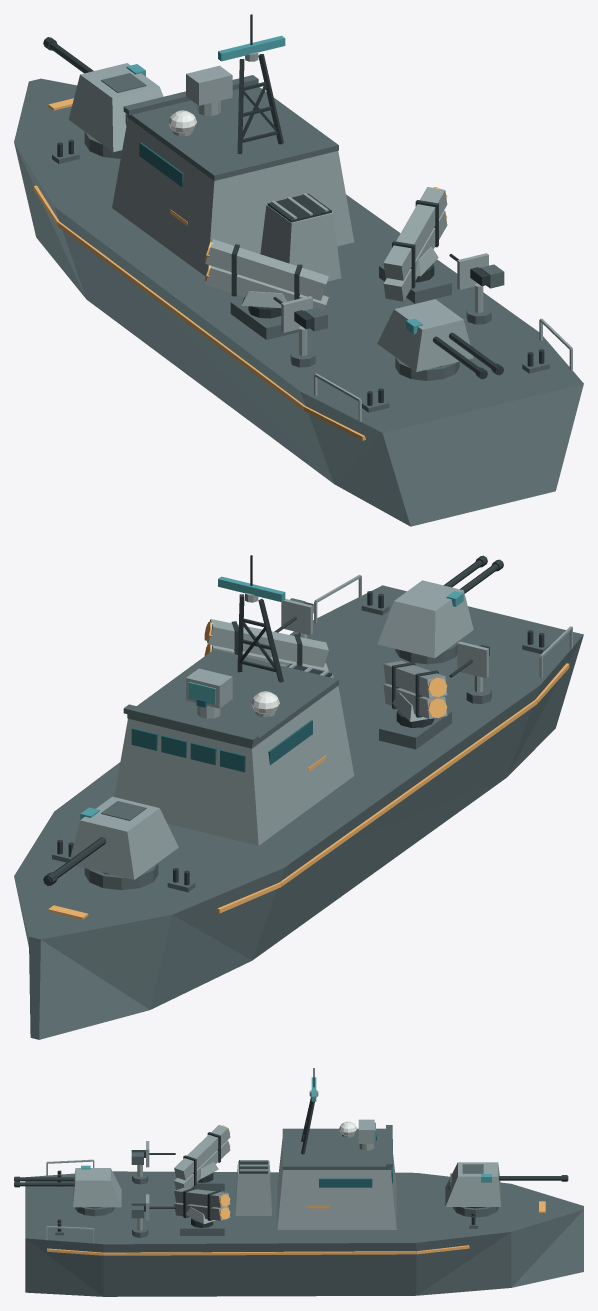
The model's file is ESC_STK_T2.fbx.
The picture shows the model from 3 angles, top to bottom: view 1: azimuth 30°, elevation 25°; view 2: azimuth 150°, elevation 25°; view 3: azimuth 270°, elevation 25°; orthographic projection. The views are drawn at different scales.
Visible parts, largest first — view 1: ContinuousHull.002, Deckhouse.002, Roof.002, AftGunCupola.002, PrimaryGunCupola.002, FunnelEnclosure.002, MissileBankPortTube2, MissileBankStarboardTube2, RoleHullStripe-1_1.002, FireControlHousing.001, MissileBankPortTube1.001, MissileBankPortFoundation.001 (+9 smaller); view 2: ContinuousHull.002, Deckhouse.002, Roof.002, PrimaryGunCupola.002, AftGunCupola.002, MissileBankStarboardTube2, RoleHullStripe-1_1.002, BridgeBrow.002, MissileBankPortFoundation.001, MissileBankPortTube2, FireControlHousing.001, PrimaryGunFoundation.002 (+5 smaller); view 3: ContinuousHull.002, Deckhouse.002, Roof.002, PrimaryGunCupola.002, AftGunCupola.002, FunnelEnclosure.002, RoleHullStripe1_1.002, MissileBankPortTube2, MissileBankStarboardTube2, MissileBankStarboardFoundation.001, BridgeSideGlass1.002, MissileBankPortTube1.001 (+6 smaller).
Part boxes in pixels (x1,y1,x2,y2): ContinuousHull.002: (14,78,583,526); Deckhouse.002: (112,118,354,276); Roof.002: (127,87,338,180); AftGunCupola.002: (377,299,473,372); PrimaryGunCupola.002: (68,63,163,152); FunnelEnclosure.002: (260,204,341,281); MissileBankPortTube2: (205,239,328,300); MissileBankStarboardTube2: (383,187,447,280); RoleHullStripe-1_1.002: (57,221,305,410); FireControlHousing.001: (186,65,232,105); MissileBankPortTube1.001: (205,266,328,311); MissileBankPortFoundation.001: (230,299,298,339); ContinuousHull.002: (14,585,583,1039); Deckhouse.002: (114,686,354,845); Roof.002: (127,649,338,748); PrimaryGunCupola.002: (69,796,178,879); AftGunCupola.002: (377,580,473,658); MissileBankStarboardTube2: (207,619,328,667); RoleHullStripe-1_1.002: (279,700,536,886); BridgeBrow.002: (123,704,258,744); MissileBankPortFoundation.001: (379,710,451,749); MissileBankPortTube2: (383,661,447,698); FireControlHousing.001: (186,668,232,708); PrimaryGunFoundation.002: (84,863,158,890); ContinuousHull.002: (25,1171,583,1296); Deckhouse.002: (277,1138,396,1229); Roof.002: (282,1128,391,1169); PrimaryGunCupola.002: (445,1162,500,1206); AftGunCupola.002: (73,1168,121,1207); FunnelEnclosure.002: (235,1161,271,1215); RoleHullStripe1_1.002: (103,1251,416,1255); MissileBankPortTube2: (174,1125,230,1180); MissileBankStarboardTube2: (174,1187,230,1207); MissileBankStarboardFoundation.001: (180,1217,224,1235); BridgeSideGlass1.002: (319,1178,372,1187); MissileBankPortTube1.001: (174,1140,230,1189).
Bounding box in the file's own units: 281 × 360 × 918.
